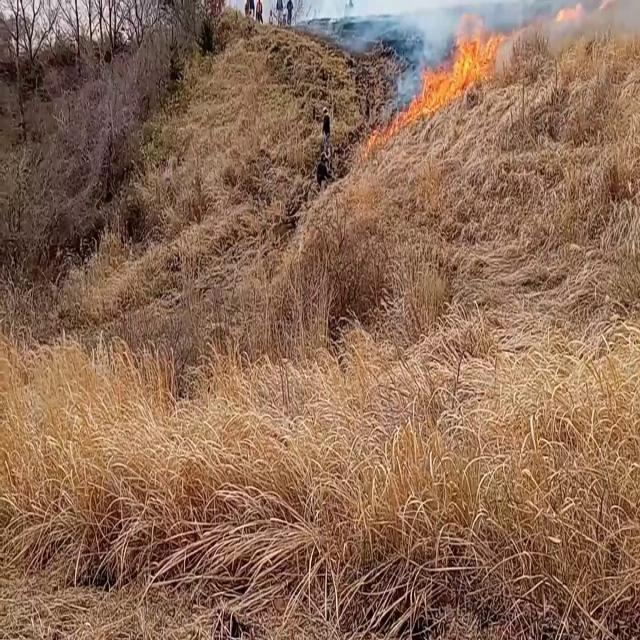Fire: (411, 5, 504, 117)
